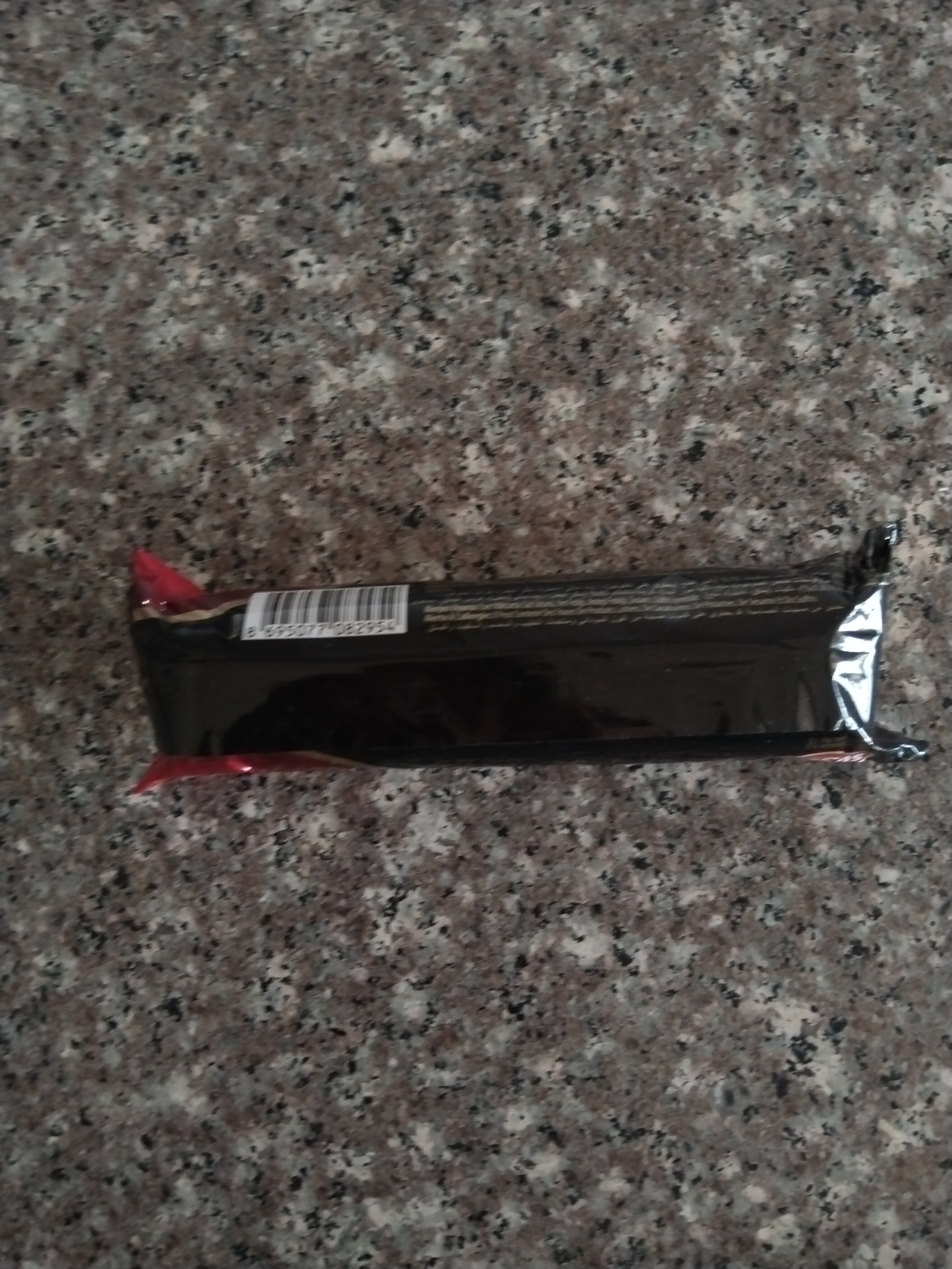susse_biskuvi: (129, 539, 913, 791)
